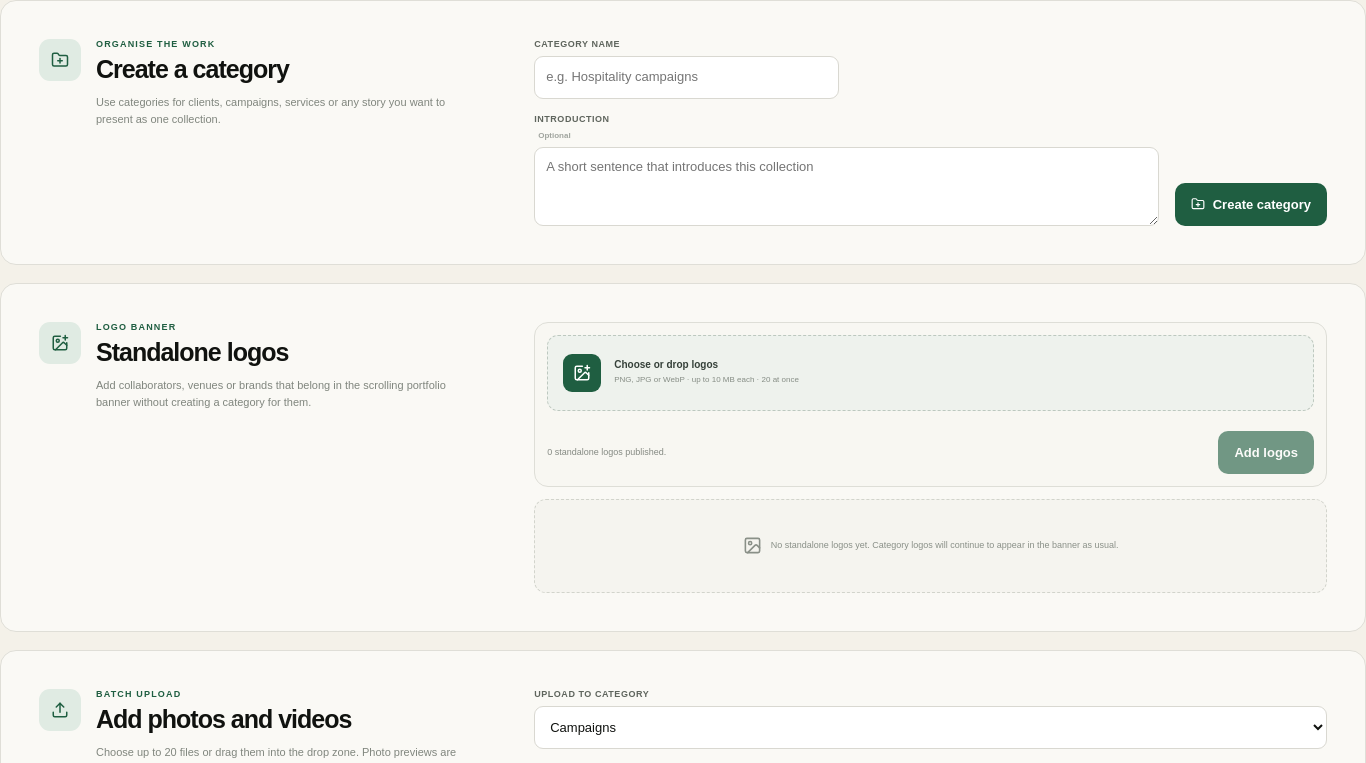
PortfolioManager media removal › keeps a newly created category selected instead of falling back to the first category
Type "New collection" into the field named "name" at (687, 78), box [534,56,839,99]
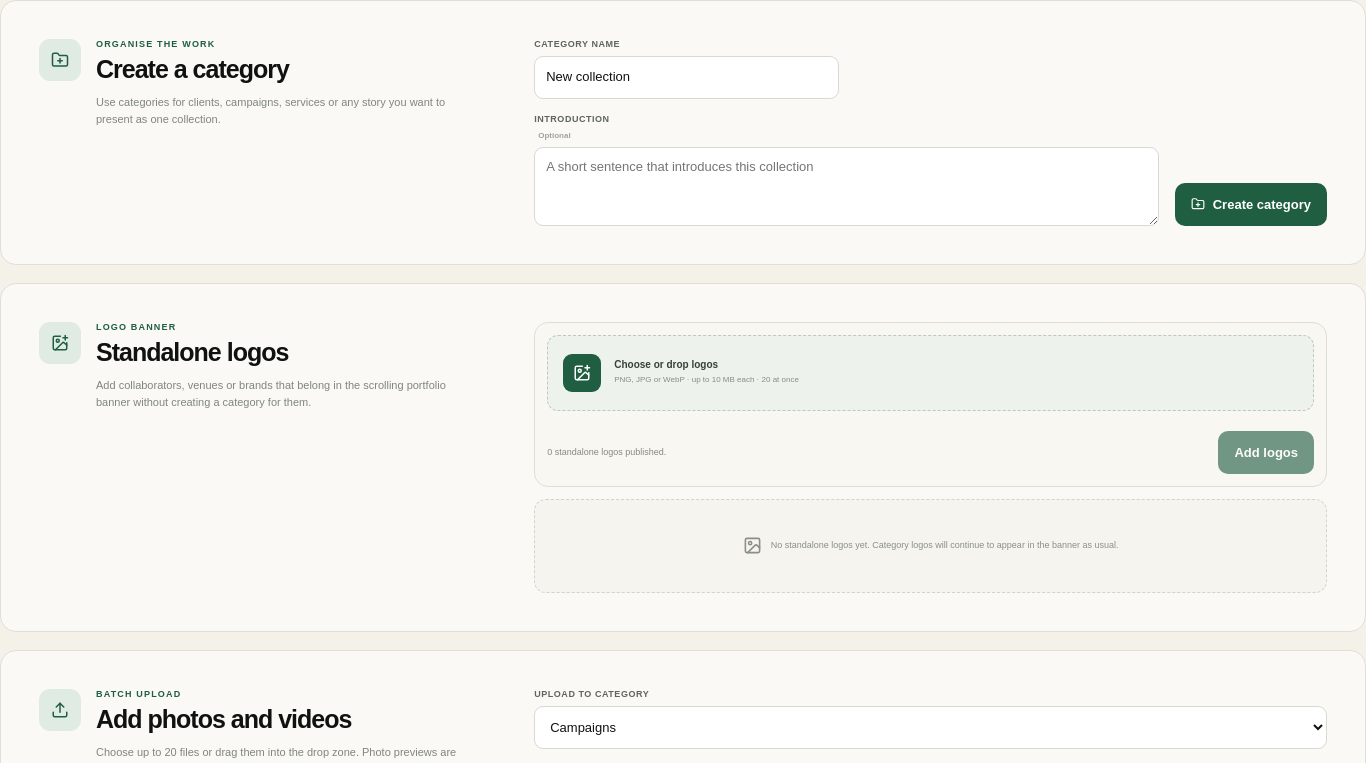
Submit the form "Category name Introduction Optional Create category", box [534,39,1327,226]
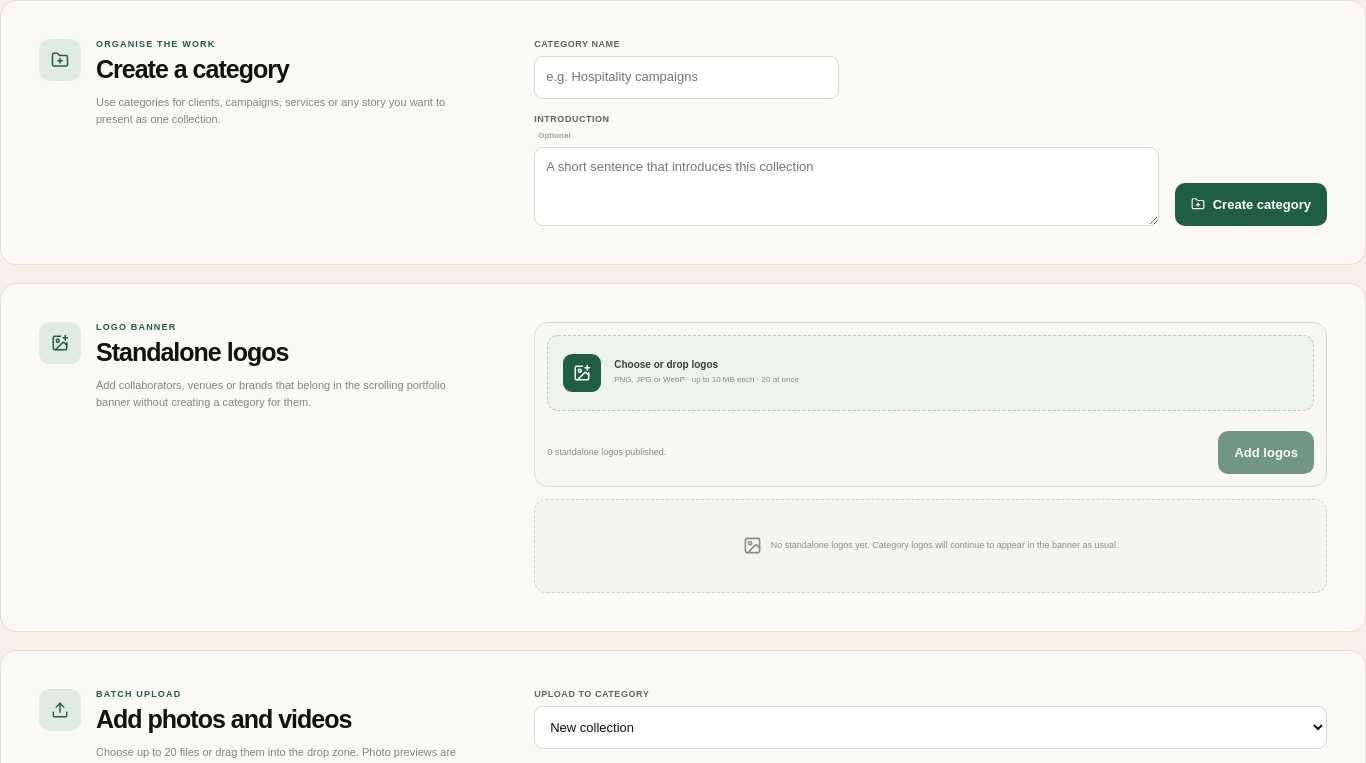
expect the dropdown labelled "Upload to category" shows "New collection": met, box [534,706,1327,748]
